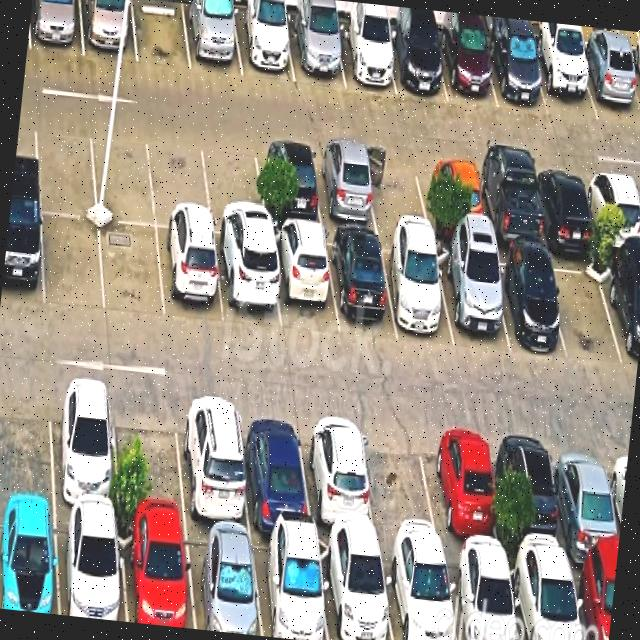empty: (358, 416, 442, 549), (112, 387, 186, 523), (547, 250, 624, 361), (200, 134, 267, 238), (0, 376, 53, 506), (89, 122, 155, 225), (149, 129, 212, 231), (100, 221, 164, 320), (34, 115, 96, 217), (42, 214, 104, 311), (363, 149, 430, 232), (132, 0, 190, 69)
occupied: (425, 421, 502, 556), (299, 409, 377, 541), (176, 395, 250, 530), (238, 402, 312, 533), (49, 379, 118, 515), (498, 426, 568, 560), (551, 432, 619, 564), (184, 525, 262, 636), (118, 518, 194, 629), (251, 533, 328, 640), (434, 245, 510, 352), (488, 249, 565, 353), (380, 237, 453, 346), (56, 510, 126, 621), (317, 538, 393, 640), (325, 231, 397, 337), (269, 226, 338, 334), (380, 548, 457, 640), (444, 551, 519, 640), (156, 228, 224, 324), (213, 235, 280, 330), (507, 556, 582, 640), (0, 506, 58, 614), (473, 160, 544, 248), (418, 155, 487, 240), (255, 140, 323, 226), (312, 145, 378, 229), (530, 40, 598, 120), (532, 165, 597, 247), (485, 31, 548, 114), (576, 43, 640, 124), (436, 27, 497, 107), (384, 26, 447, 101), (232, 6, 294, 81), (584, 168, 640, 251), (333, 21, 396, 94), (182, 0, 242, 76), (0, 205, 43, 306), (602, 254, 640, 368), (287, 16, 344, 86), (569, 561, 616, 640), (79, 0, 137, 61), (29, 0, 83, 55)
